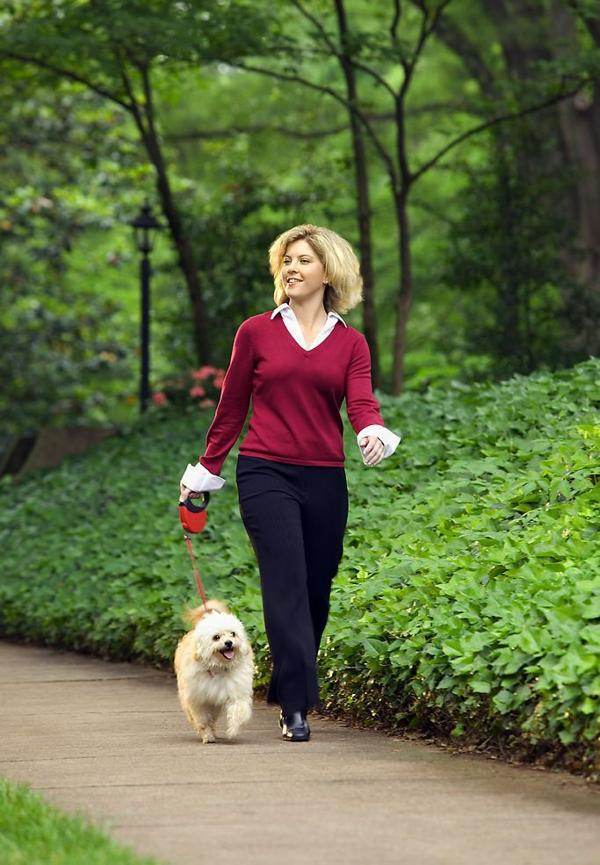person: (182, 221, 398, 748)
